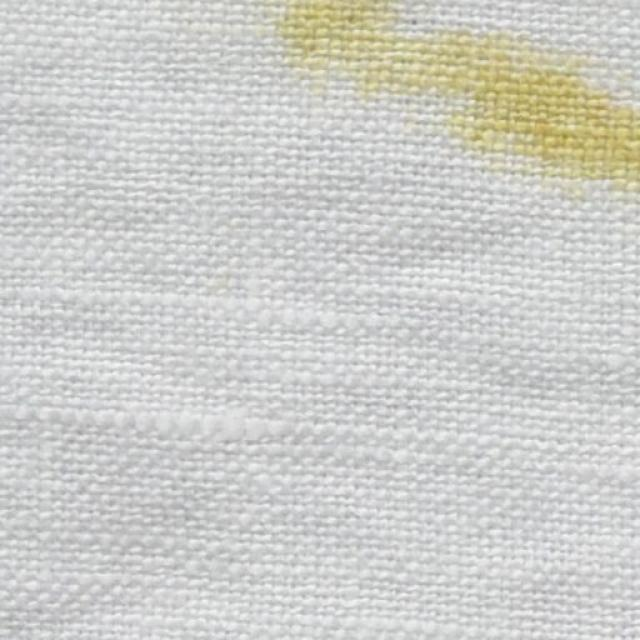Stain: (278, 0, 640, 184)
